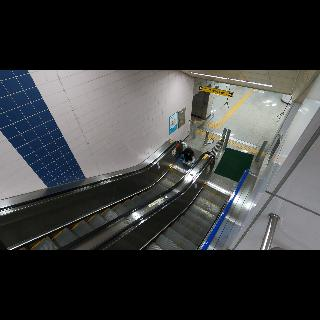normal: (175, 139, 195, 165)
